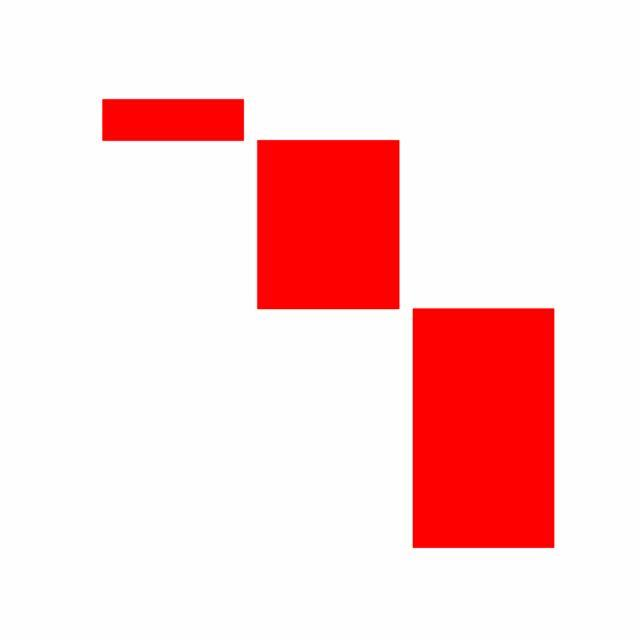Marubozu: (406, 306, 562, 551)
